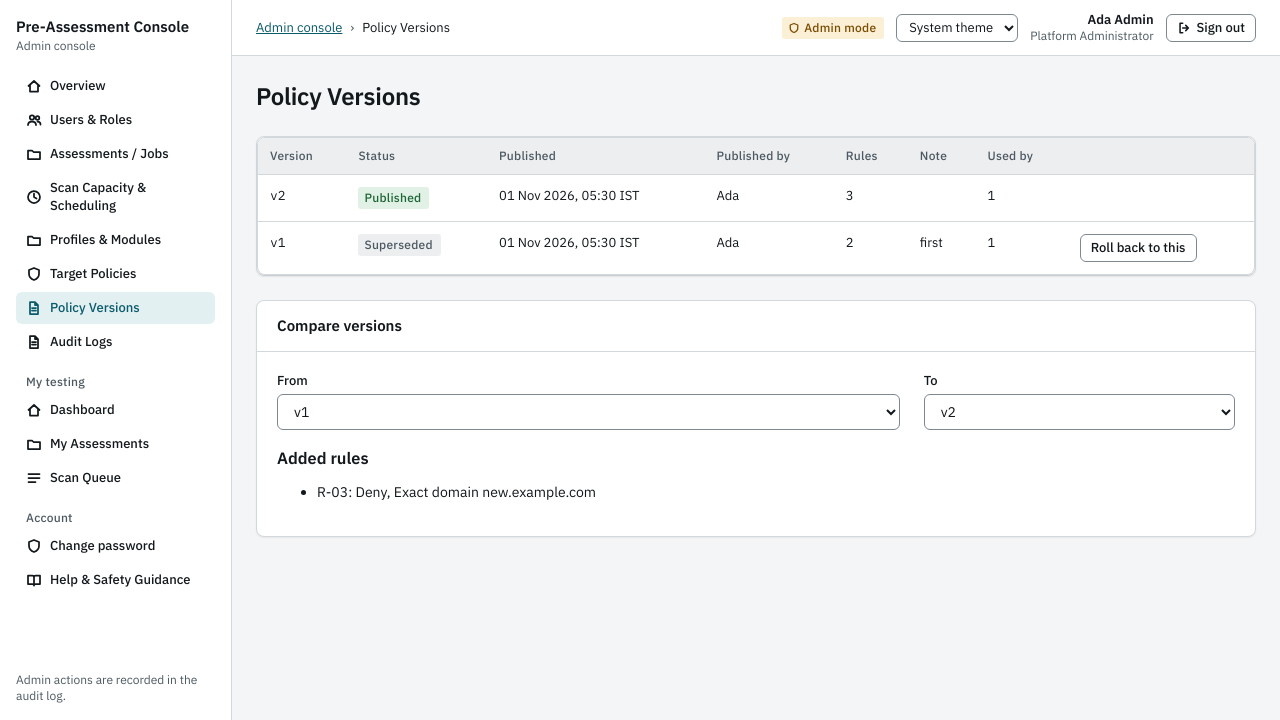
Scenario: policy versions page › roll back only on superseded rows; sends reason and toasts
The image size is (1280, 720).
Click the button with aria-label "Roll back to v1" at (1138, 248), box [1080,234,1196,262]
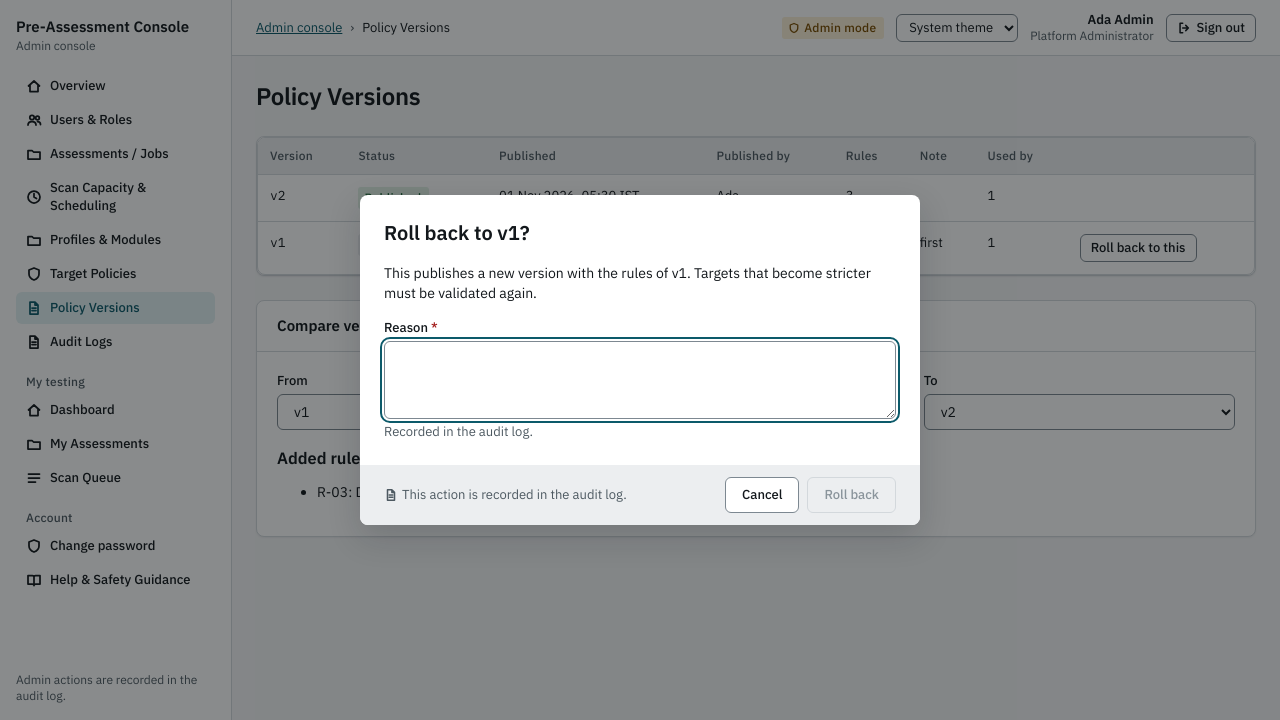
Result: the text "This publishes a new version with the rules of v1. Targets that become stricter must be validated again." is shown at [384,264,871,302]
Type "bad rule" into the text box labelled "Reason *" at (640, 380), box [384,341,896,419]
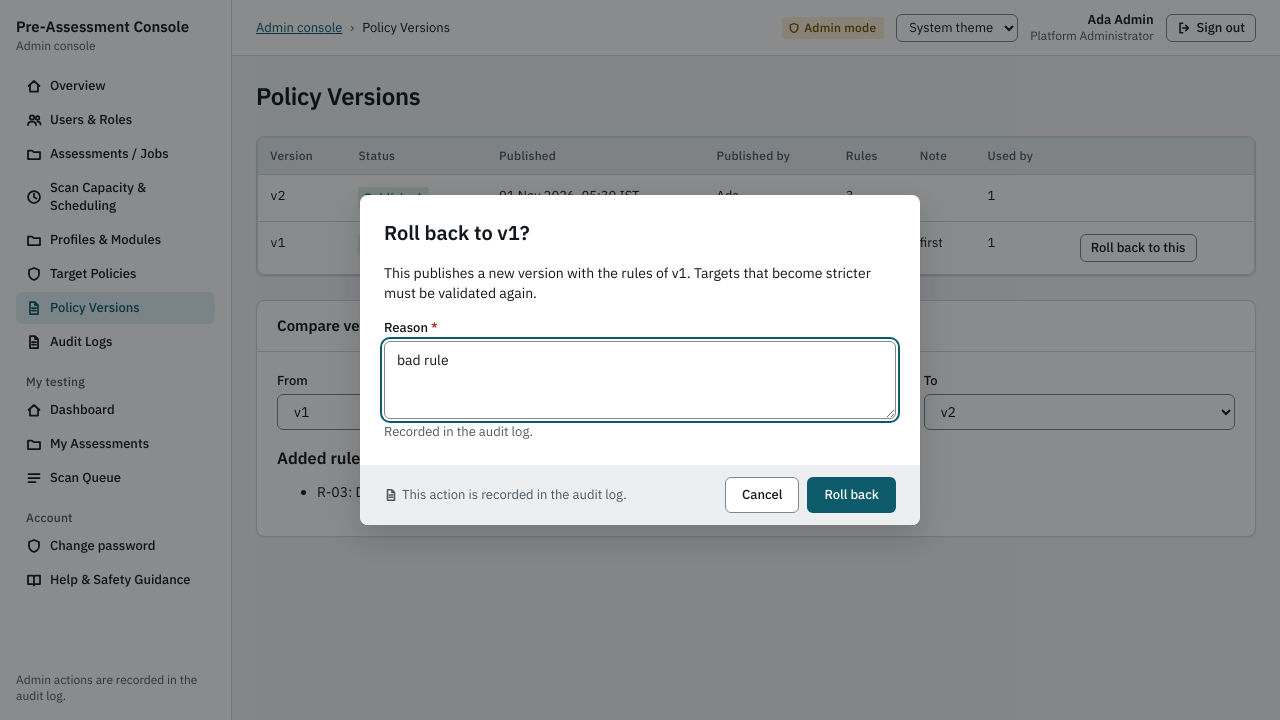
Click the button "Roll back" at (852, 495), box [807,477,896,513]
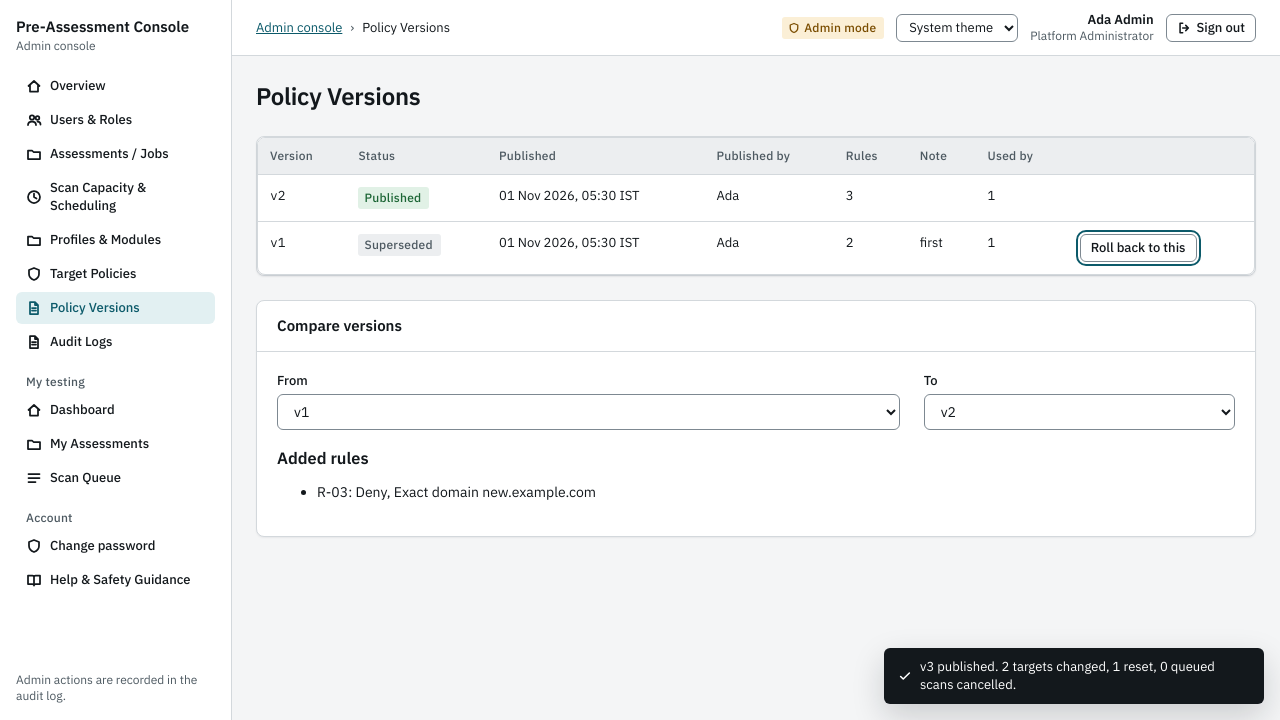
Result: the text "v3 published. 2 targets changed, 1 reset, 0 queued scans cancelled." is shown at [884,648,1264,704]
